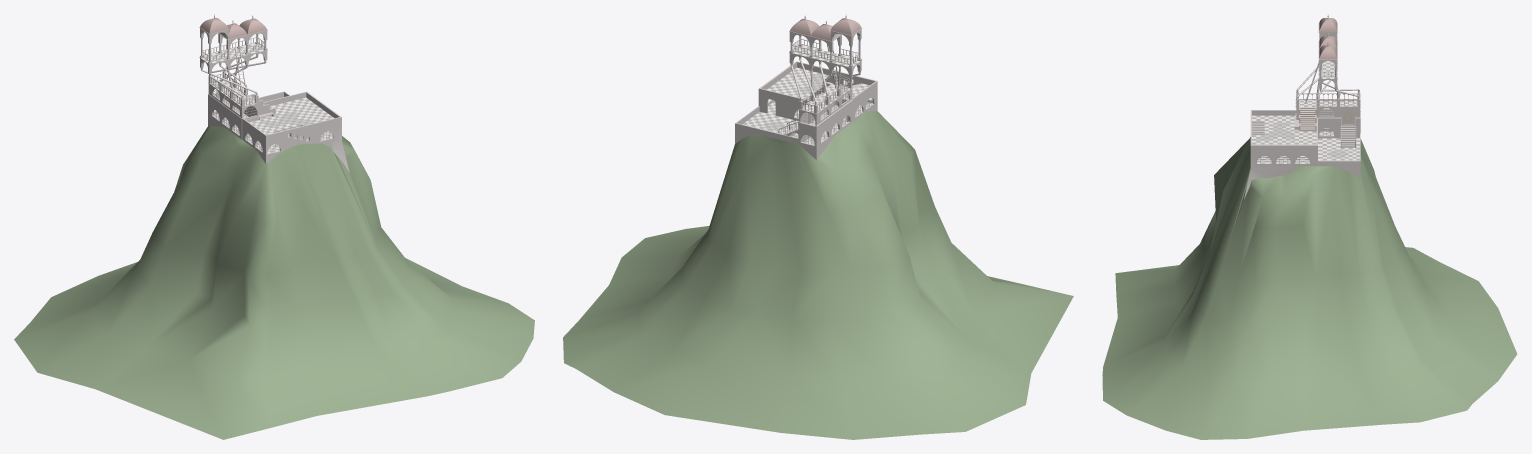
Rendered from belvedere_escher_tpe.glb.
3 views of the same model, side by side, from view 1: azimuth 30°, elevation 25°; view 2: azimuth 150°, elevation 25°; view 3: azimuth 270°, elevation 25° (orthographic). The views are drawn at different scales.
Visible parts, largest first — view 1: Material2 (×3); view 2: Material2 (×4); view 3: Material2 (×4).
Part boxes in pixels (x1,y1,x2,y2): Material2 (×3): [14, 18, 534, 439]; Material2 (×4): [563, 19, 1073, 439]; Material2 (×4): [1102, 36, 1517, 439].
Size of the model in its own units: 2045 by 1465 by 1795.
